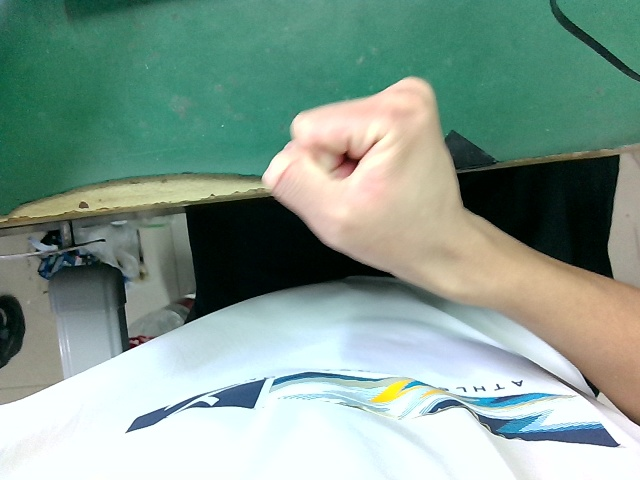stone: (254, 72, 488, 295)
